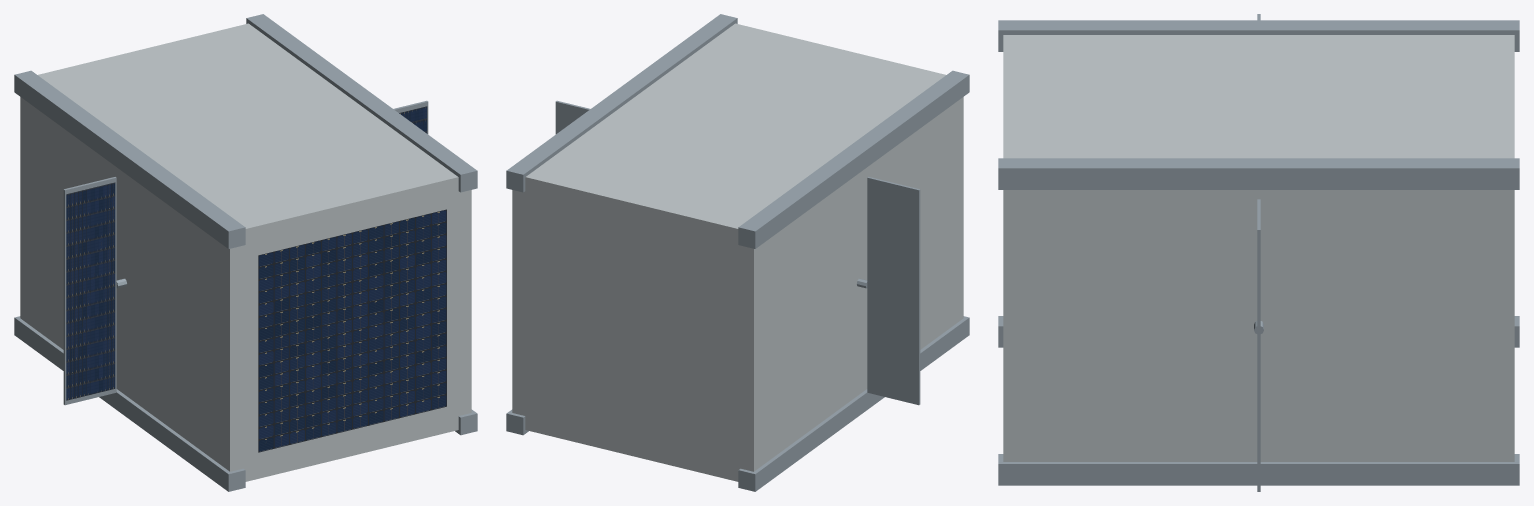
The model's file is ref-cubesat-12uxl-69931.glb.
3 views of the same model, side by side, from view 1: azimuth 30°, elevation 25°; view 2: azimuth 150°, elevation 25°; view 3: azimuth 270°, elevation 25° (orthographic). The views are drawn at different scales.
Visible parts, largest first — view 1: Spacecraft body, Body-mounted cells, Dispenser rail (×3), Photovoltaic laminates, Array frame; view 2: Spacecraft body, Dispenser rail (×3), Array frame (×2); view 3: Spacecraft body, Dispenser rail (×3), Array frame.
Part boxes in pixels (bbox=[...]): Spacecraft body: bbox=[20, 23, 471, 481]; Body-mounted cells: bbox=[258, 209, 446, 452]; Dispenser rail (×3): bbox=[14, 14, 477, 491]; Photovoltaic laminates: bbox=[66, 182, 115, 400]; Array frame: bbox=[63, 177, 116, 405]; Spacecraft body: bbox=[512, 23, 963, 481]; Dispenser rail (×3): bbox=[506, 14, 969, 491]; Array frame (×2): bbox=[555, 100, 920, 405]; Spacecraft body: bbox=[1003, 35, 1514, 461]; Dispenser rail (×3): bbox=[998, 20, 1519, 485]; Array frame: bbox=[1257, 199, 1260, 491].
Size of the model in its own units: 0.34 by 0.2328 by 0.3468.
3 materials, 1 textured.
